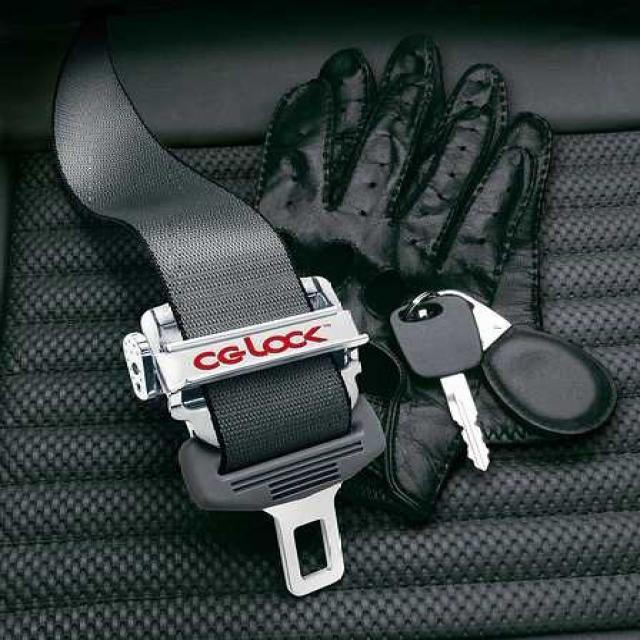seatbelt: (27, 39, 352, 606)
